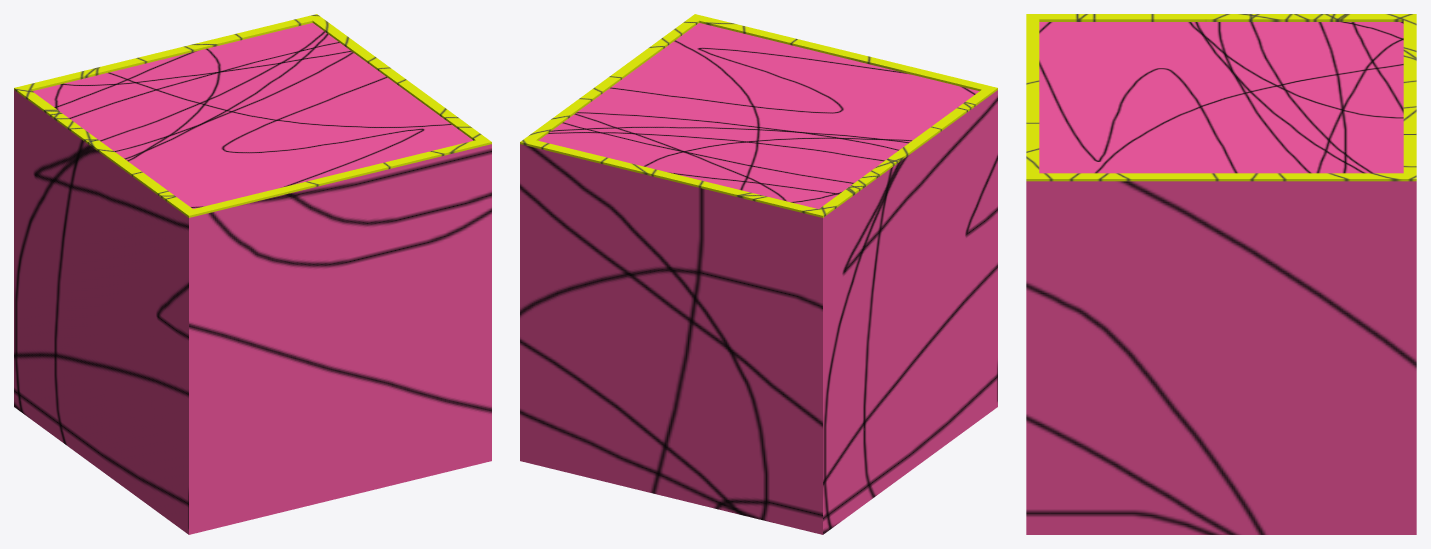
The model's file is Box_4Corners_MES.FBX.
The picture shows the model from 3 angles, left to right: view 1: azimuth 30°, elevation 25°; view 2: azimuth 150°, elevation 25°; view 3: azimuth 270°, elevation 25°; orthographic projection. The views are drawn at different scales.
Visible parts, largest first — view 1: Standard Box; view 2: Standard Box; view 3: Standard Box.
Boxes of the visible parts, left/top/right/bottom form: Standard Box: left=14, top=14, right=491, bottom=534; Standard Box: left=520, top=14, right=997, bottom=534; Standard Box: left=1026, top=14, right=1416, bottom=534.
Size of the model in its own units: 150 by 151 by 150.
